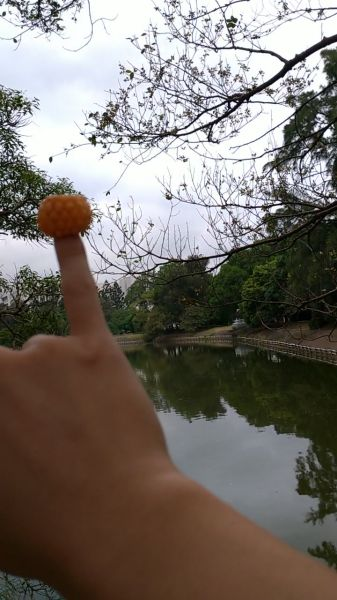eggs: (36, 192, 92, 236)
